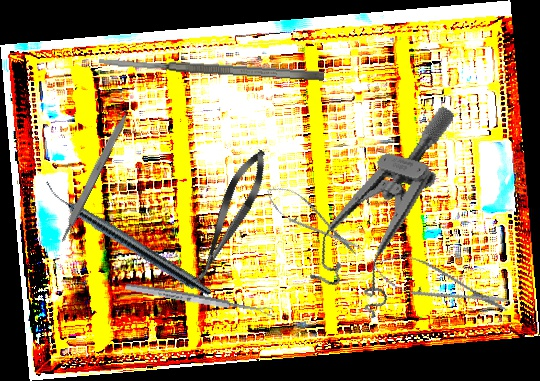Handpiece: (38, 179, 216, 300)
Micro Scissor: (184, 143, 276, 291), (368, 246, 515, 324), (259, 177, 367, 264)
Scalpel Handle: (56, 109, 131, 243)
Spatula Surgical: (98, 54, 325, 83)
Speculum: (303, 82, 456, 328)
Surgical Spoon: (124, 281, 274, 318)
